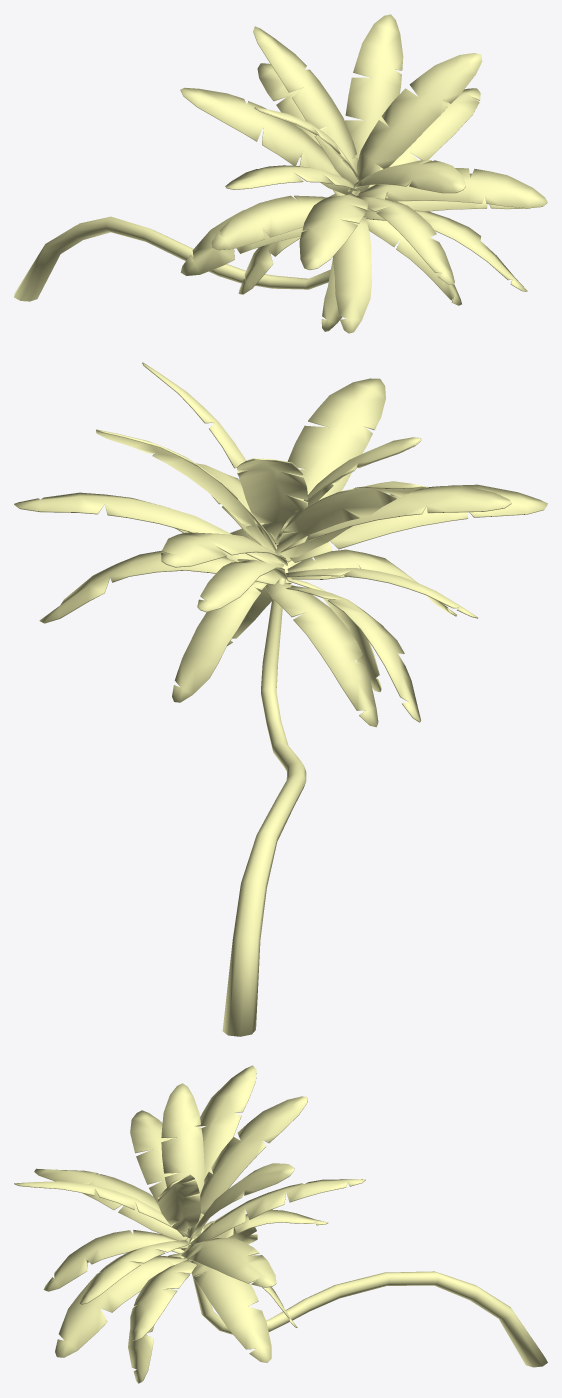
Rendered from MangaKa Props - N_C_Veg_PalmTree_03.glb.
3 views of the same model, one above another, from view 1: azimuth 30°, elevation 25°; view 2: azimuth 150°, elevation 25°; view 3: azimuth 270°, elevation 25° (orthographic). The views are drawn at different scales.
Parts seen in each view (by area): view 1: N_C_Veg_PalmTree_03_Leaves_blueScreen, N_C_Veg_PalmTree_03_blueScreen; view 2: N_C_Veg_PalmTree_03_Leaves_blueScreen, N_C_Veg_PalmTree_03_blueScreen; view 3: N_C_Veg_PalmTree_03_Leaves_blueScreen, N_C_Veg_PalmTree_03_blueScreen.
Part boxes in pixels (x1=…): N_C_Veg_PalmTree_03_Leaves_blueScreen: x1=180, y1=14, x2=547, y2=333; N_C_Veg_PalmTree_03_blueScreen: x1=14, y1=216, x2=330, y2=301; N_C_Veg_PalmTree_03_Leaves_blueScreen: x1=14, y1=362, x2=547, y2=727; N_C_Veg_PalmTree_03_blueScreen: x1=222, y1=578, x2=306, y2=1036; N_C_Veg_PalmTree_03_Leaves_blueScreen: x1=14, y1=1065, x2=365, y2=1383; N_C_Veg_PalmTree_03_blueScreen: x1=192, y1=1271, x2=547, y2=1367.
Bounding box in the file's own units: 7.57 × 7.4 × 11.31.
